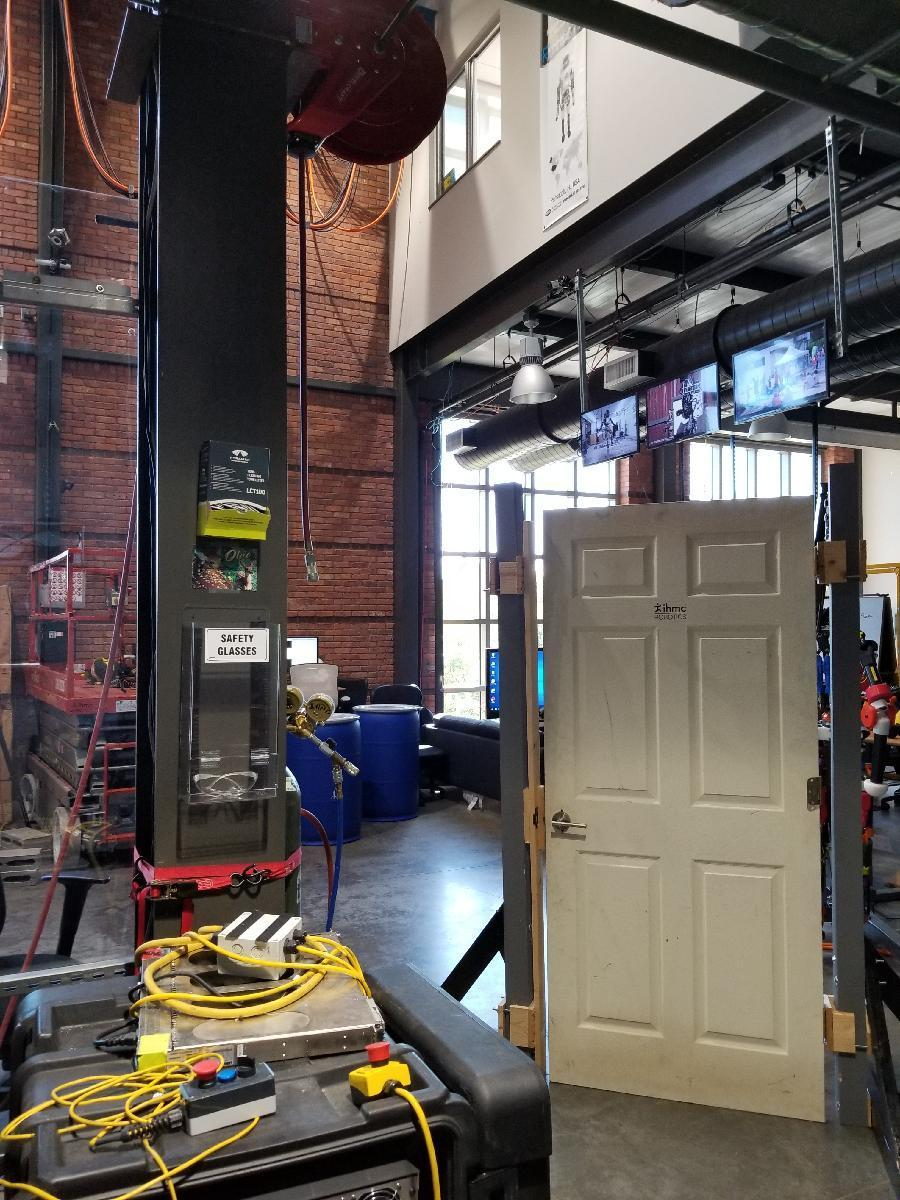door: (544, 506, 824, 1114)
handle: (550, 809, 590, 837)
